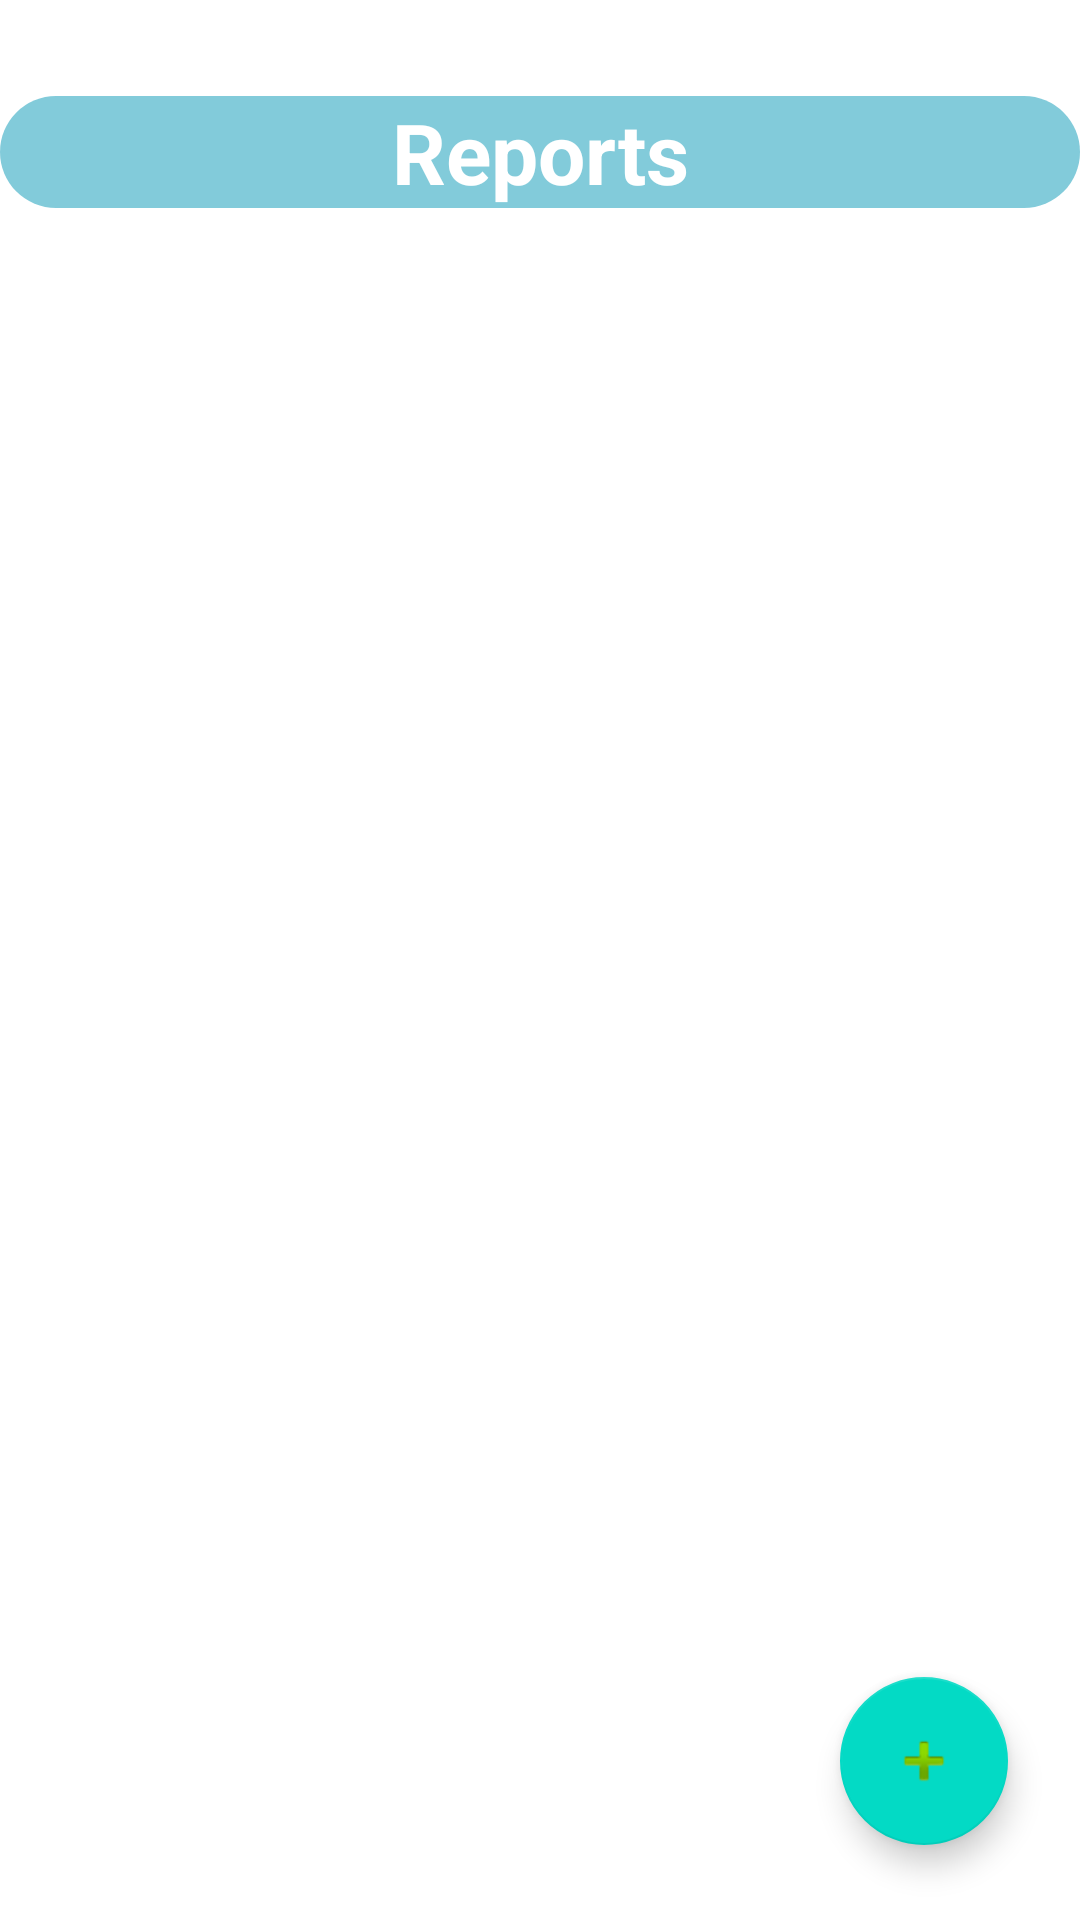

Icon bounding boxes for this 1080px×1920px phone screenshot, format (x1, y1, x2, y2):
add: (840, 1677, 1008, 1845)
